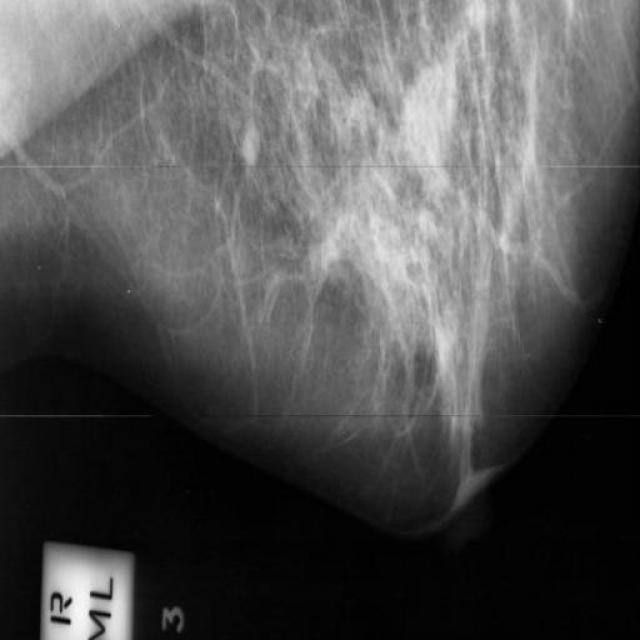cancer: (390, 57, 465, 197)
